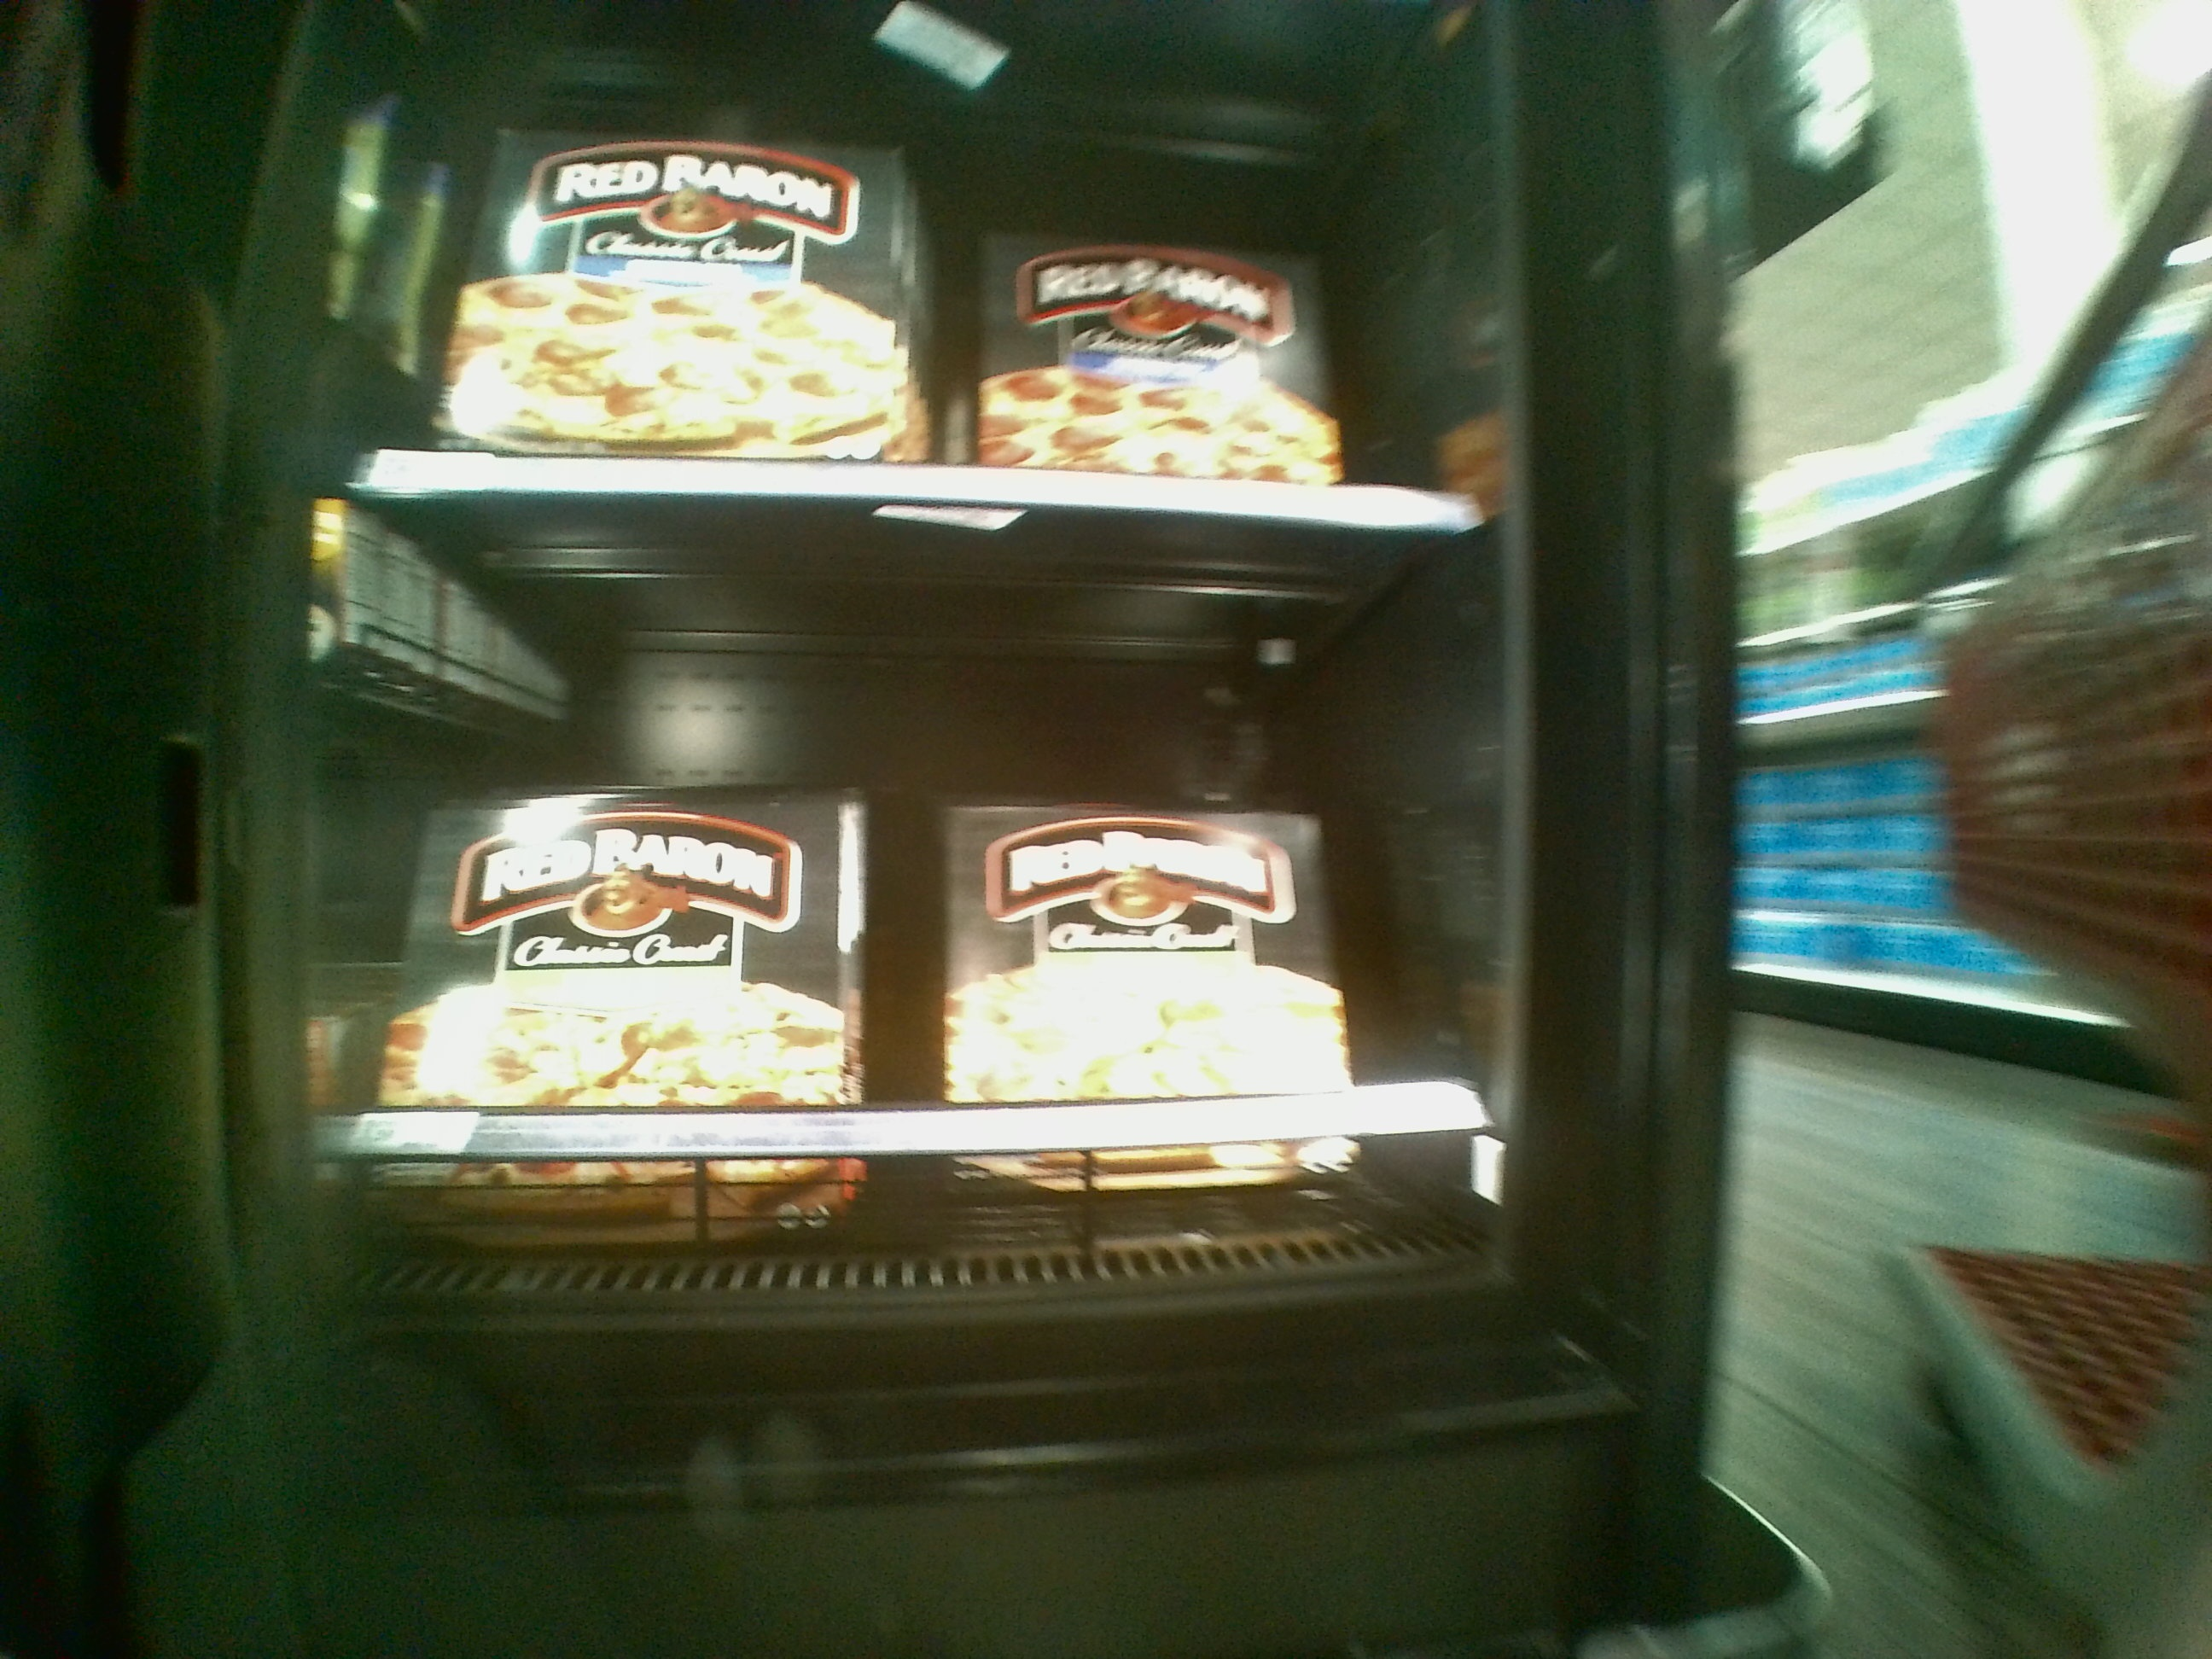shelf: (347, 528, 1493, 1277), (354, 0, 1501, 528)
